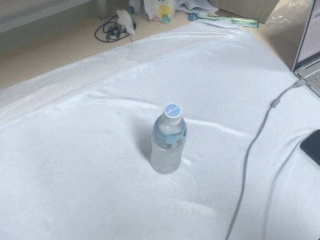bottle: (149, 104, 189, 174)
mouse: (299, 126, 320, 178)
